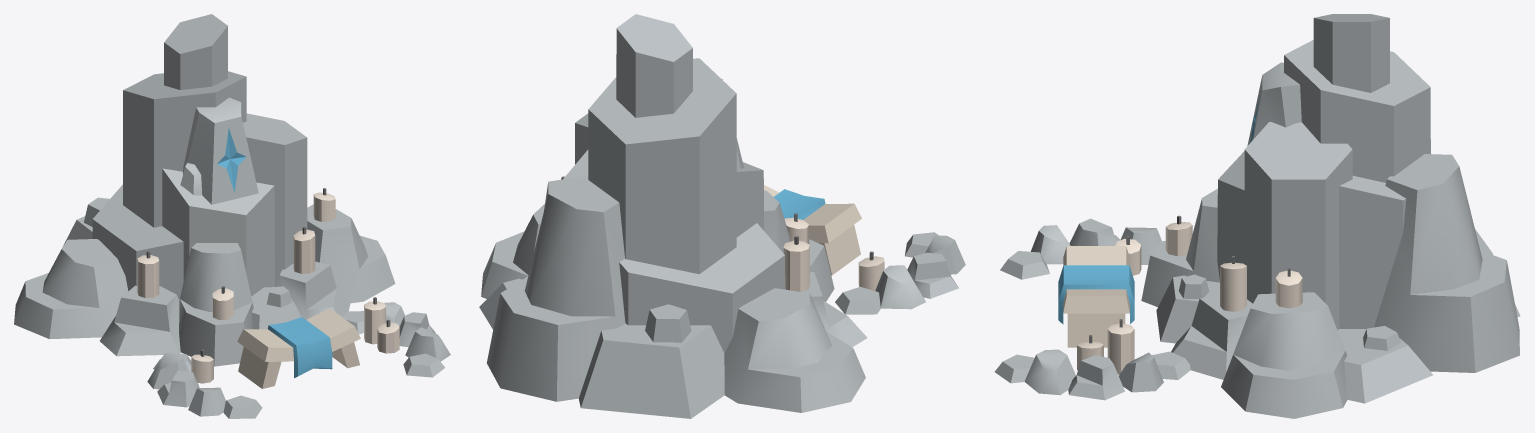
File: shrine_part.glb
The picture shows the model from 3 angles, left to right: view 1: azimuth 30°, elevation 25°; view 2: azimuth 150°, elevation 25°; view 3: azimuth 270°, elevation 25°; orthographic projection. The views are drawn at different scales.
Visible parts, largest first — view 1: X_building_shrine_blue; view 2: X_building_shrine_blue; view 3: X_building_shrine_blue.
Boxes of the visible parts, x1,y1,x2,y2 form: X_building_shrine_blue: (14,14,450,418); X_building_shrine_blue: (479,14,965,418); X_building_shrine_blue: (994,14,1520,418).
Size of the model in its own units: 1.15 by 0.8533 by 1.3.
